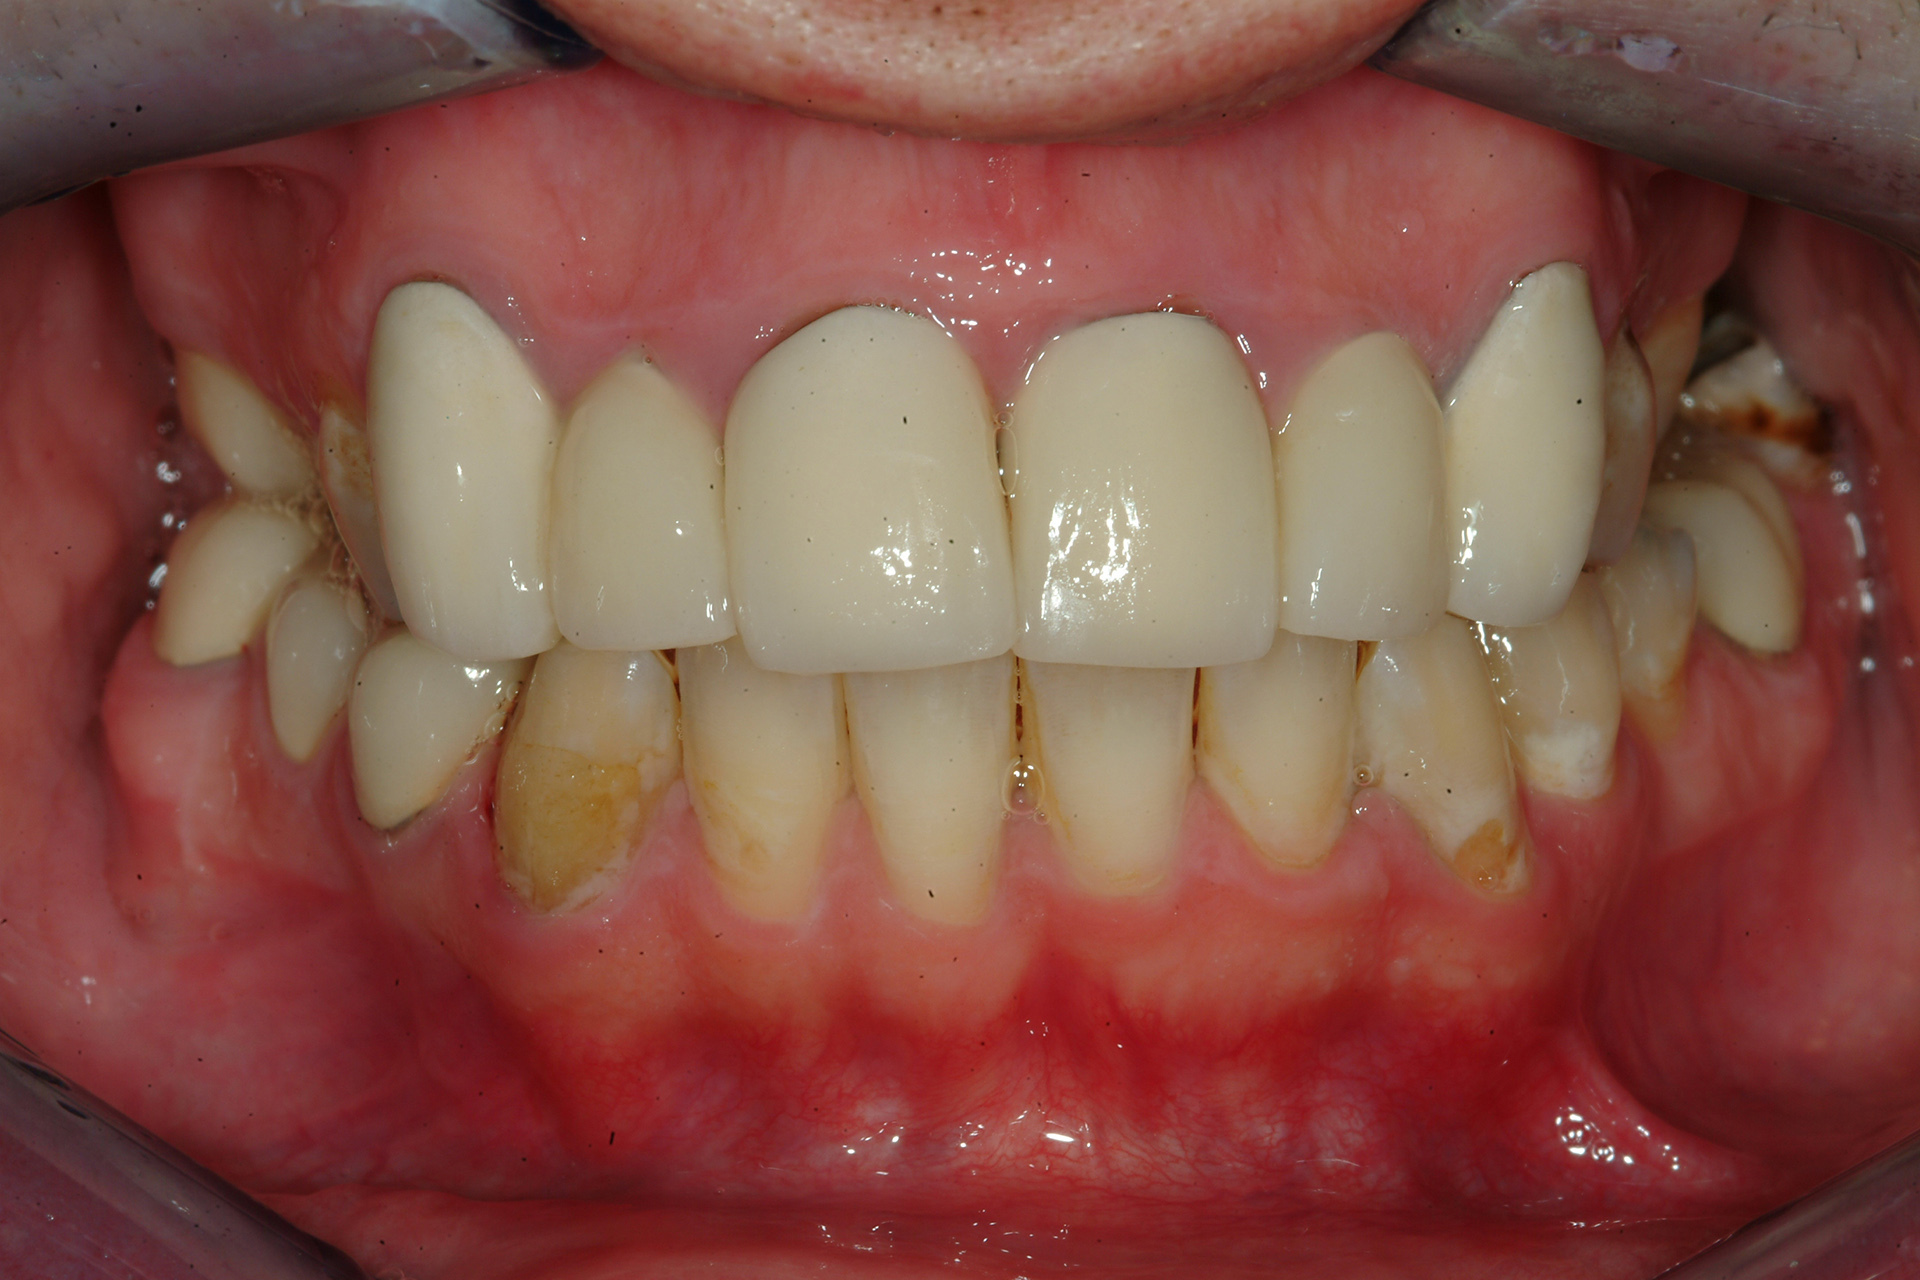LL1BC_decay: (1499, 627, 1626, 801)
LL1M_healthy: (1683, 463, 1806, 656)
LL2BC_healthy: (1621, 551, 1699, 696)
LLCI_healthy: (1023, 671, 1191, 896)
LLC_decay: (1361, 634, 1529, 899)
LLLI_decay: (1197, 660, 1359, 874)
LR1BC_decay: (344, 659, 517, 836)
LR1M_healthy: (157, 503, 299, 660)
LR2BC_healthy: (269, 600, 351, 759)
LRCI_healthy: (847, 673, 1016, 893)
LRC_decay: (494, 653, 679, 907)
LRLI_healthy: (679, 671, 843, 911)
UL1BC_decay: (1607, 311, 1651, 566)
ULCI_healthy: (1014, 314, 1277, 667)
ULC_healthy: (1450, 273, 1599, 621)
ULLI_healthy: (1277, 333, 1447, 640)
UR1BC_decay: (310, 411, 371, 587)
UR2BC_healthy: (171, 359, 303, 500)
URCI_healthy: (727, 307, 1011, 673)
URC_healthy: (370, 287, 550, 659)
URLI_healthy: (551, 363, 729, 649)
